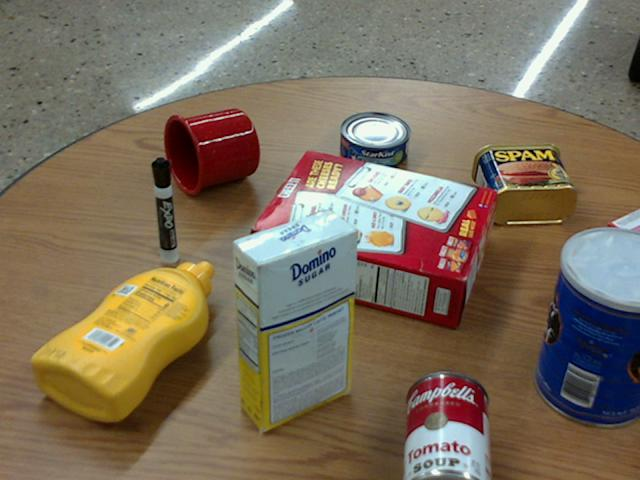cracker_box: (251, 150, 493, 323)
gelatin_box: (592, 208, 639, 290)
large_marker: (152, 157, 177, 262)
master_chef_can: (534, 227, 639, 425)
mug: (163, 108, 259, 195)
mustard_bottle: (33, 261, 212, 420)
potted_meat_can: (472, 143, 576, 223)
sugar_box: (232, 210, 356, 429)
tomato_soup_can: (405, 370, 492, 479)
tuna_fish_can: (340, 111, 410, 168)
